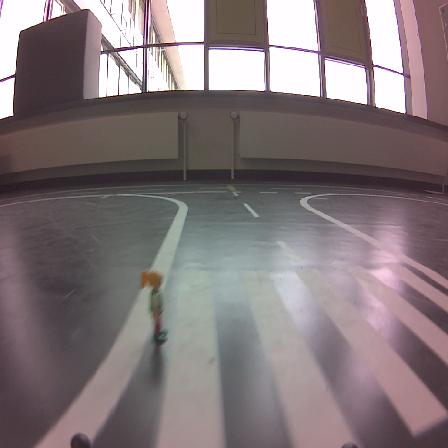CHILD: (142, 270, 166, 343)
